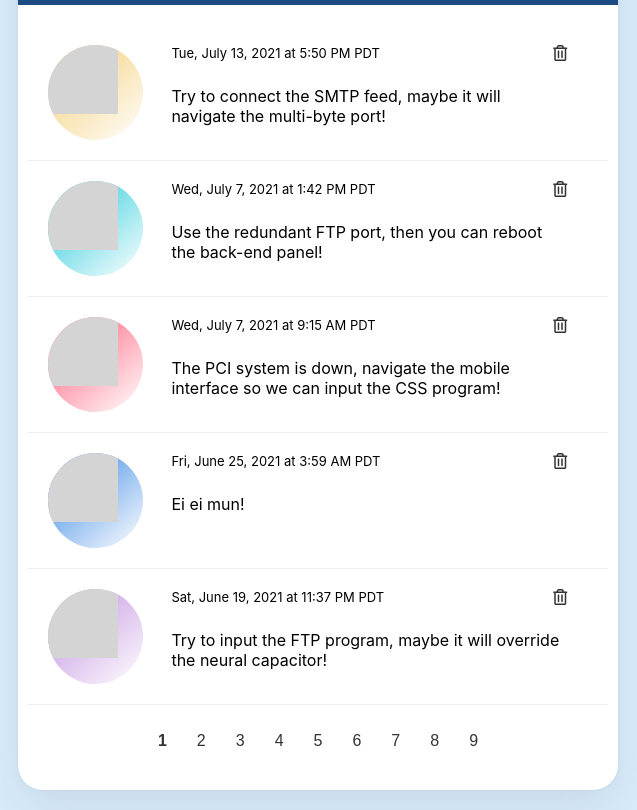
Test suit for the app › to check if the oldest message is rendered on the last page when page number is clicked
(page scrolled)
Click the button named "page 9" at (474, 741), box [469, 732, 478, 750]
(page scrolled)
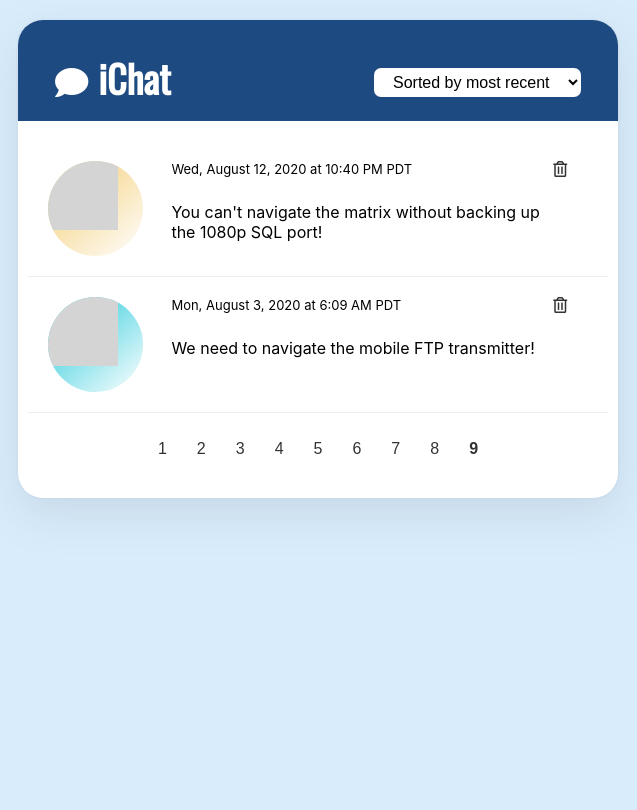
Result: the text "Mon, August 3, 2020 at 6:09 AM PDT" is shown at [171, 297, 401, 315]
